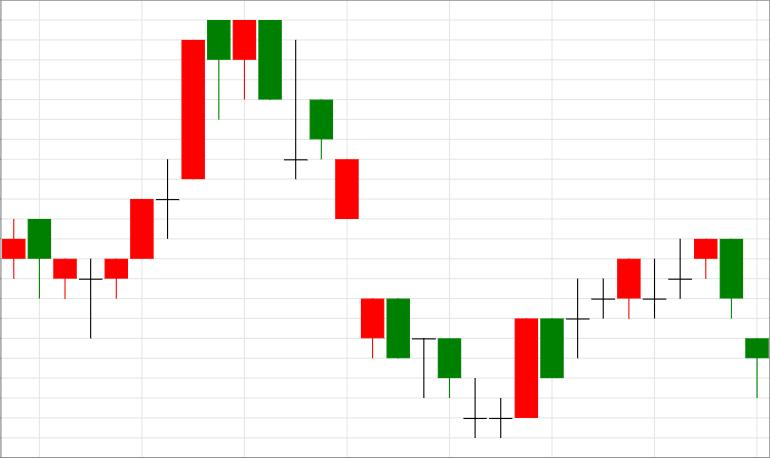hanging_man_fall: (79, 20, 256, 339)
